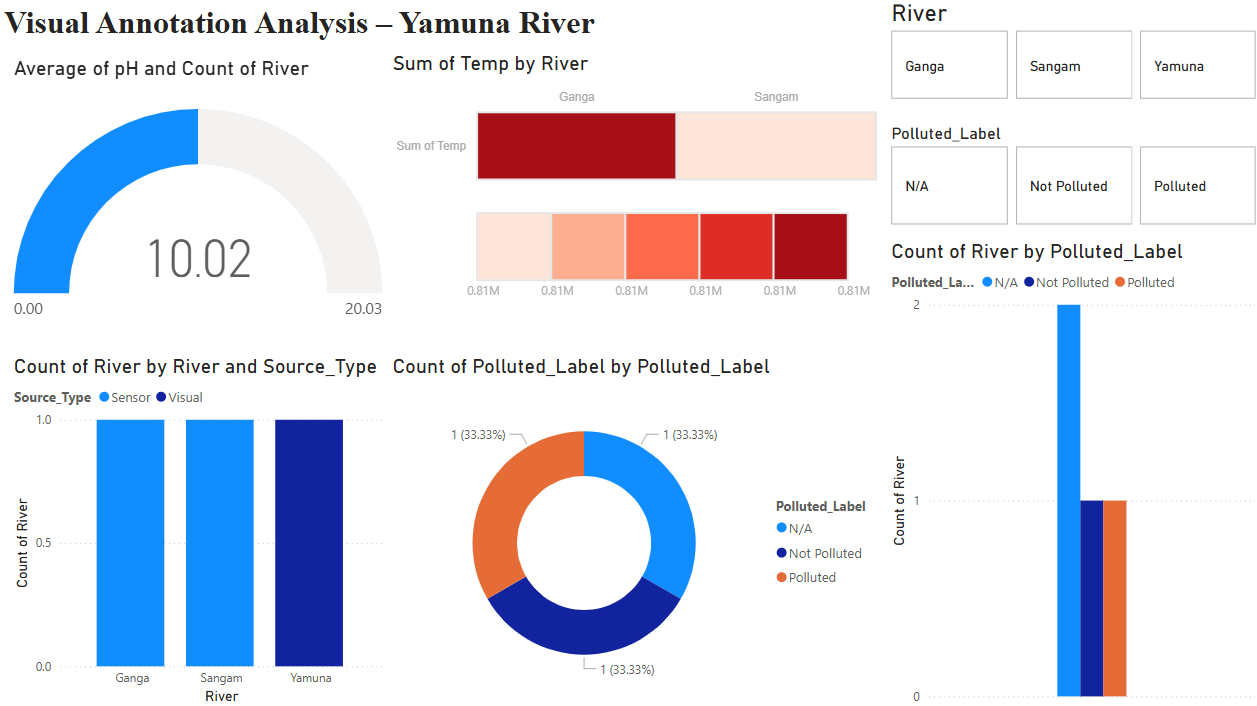

Layout of this report page (visuals, bound fields, positions):
{"tool":"powerbi","page":{"name":"Page 3","canvas":[1280,720],"ordinal":2},"visuals":[{"type":"textbox","box":[0,0,697.5,57],"z":0},{"type":"donutChart","fields":{"Category":["combined_river_data_for_powerbi.Polluted_Label"],"Y":["Count(combined_river_data_for_powerbi.Polluted_Label)"]},"box":[393.3,360,505,360],"z":1000},{"type":"lineClusteredColumnComboChart","fields":{"Series":["combined_river_data_for_powerbi.Polluted_Label"],"Y":["Count(combined_river_data_for_powerbi.River)"]},"box":[898.6,242.9,381.4,477.1],"z":2000},{"type":"advancedSlicerVisual","fields":{"Values":["combined_river_data_for_powerbi.River"]},"box":[898.3,0,381.7,106.7],"z":3000},{"type":"advancedSlicerVisual","fields":{"Values":["combined_river_data_for_powerbi.Polluted_Label"]},"box":[898.3,125,381.7,108.3],"z":4000},{"type":"columnChart","fields":{"Category":["combined_river_data_for_powerbi.River"],"Series":["combined_river_data_for_powerbi.Source_Type"],"Y":["Count(combined_river_data_for_powerbi.River)"]},"box":[10,360,383.3,360],"z":5000},{"type":"TableHeatMap1443716069308","fields":{"Category":["combined_river_data_for_powerbi.River"],"Y":["Sum(combined_river_data_for_powerbi.Temp)"]},"box":[393.3,53.3,505,306.7],"z":6000},{"type":"gauge","fields":{"Y":["Avg(combined_river_data_for_powerbi.pH)"]},"box":[10,58.3,383.3,301.7],"z":7000}]}

Visuals, with their boxes in screenshot pixels (x1, y1, x2, y2), scaled from the page's 1280x720 canvas onto the 1257x706 screenshot:
textbox: <region>0, 0, 685, 56</region>
donutChart - combined_river_data_for_powerbi.Polluted_Label x Count(combined_river_data_for_powerbi.Polluted_Label): <region>386, 353, 882, 705</region>
lineClusteredColumnComboChart - combined_river_data_for_powerbi.Polluted_Label x Count(combined_river_data_for_powerbi.River): <region>882, 238, 1256, 705</region>
advancedSlicerVisual - combined_river_data_for_powerbi.River: <region>882, 0, 1256, 105</region>
advancedSlicerVisual - combined_river_data_for_powerbi.Polluted_Label: <region>882, 123, 1256, 229</region>
columnChart - combined_river_data_for_powerbi.River x combined_river_data_for_powerbi.Source_Type: <region>10, 353, 386, 705</region>
TableHeatMap1443716069308 - combined_river_data_for_powerbi.River x Sum(combined_river_data_for_powerbi.Temp): <region>386, 52, 882, 353</region>
gauge - Avg(combined_river_data_for_powerbi.pH): <region>10, 57, 386, 353</region>
